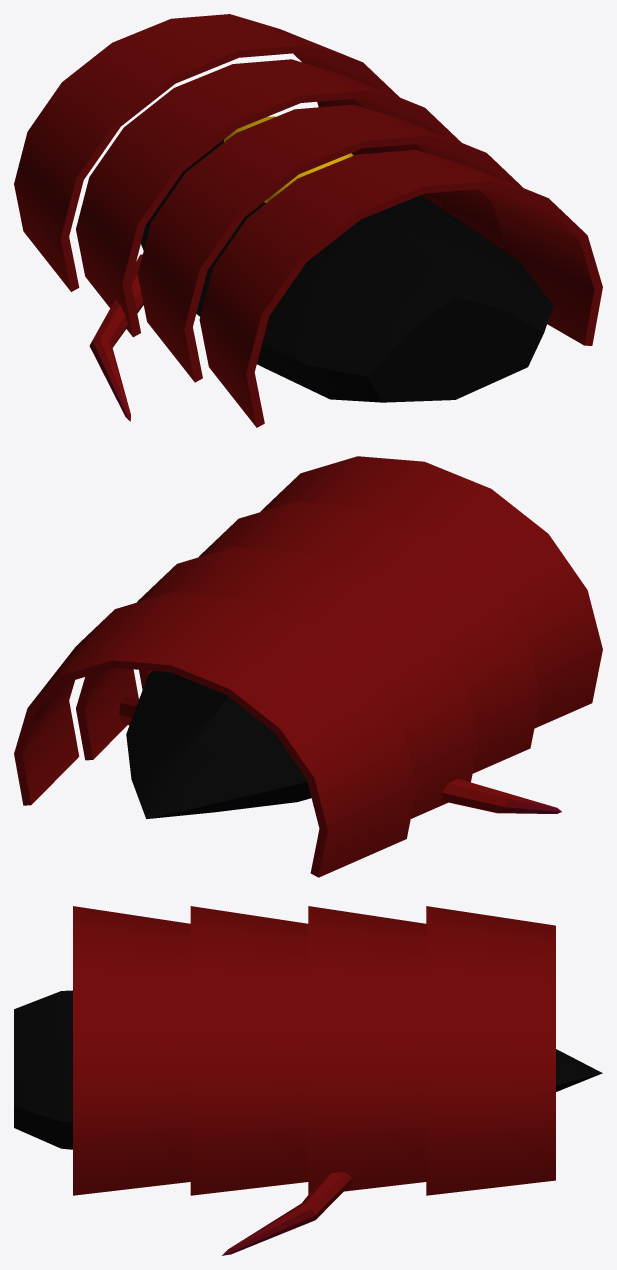
File: token_craigon_auxiliary_orbital.fbx
3 renders of one model, top to bottom at view 1: azimuth 30°, elevation 25°; view 2: azimuth 150°, elevation 25°; view 3: azimuth 270°, elevation 25°, orthographic. The views are drawn at different scales.
Visible parts, largest first — view 1: token_craigon_auxiliary_orbital; view 2: token_craigon_auxiliary_orbital; view 3: token_craigon_auxiliary_orbital.
Boxes of the visible parts, x1,y1,x2,y2 form: token_craigon_auxiliary_orbital: [14, 14, 602, 427]; token_craigon_auxiliary_orbital: [14, 456, 602, 877]; token_craigon_auxiliary_orbital: [14, 906, 602, 1255].
Bounding box in the file's own units: 0.7294 × 0.386 × 0.9.
